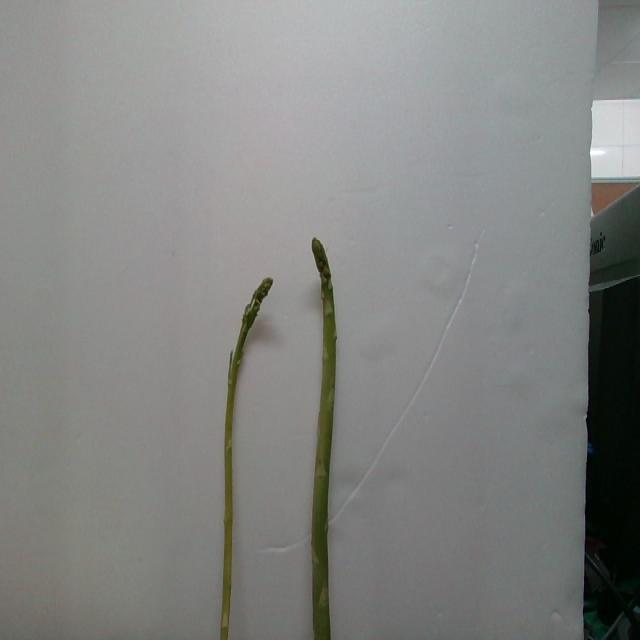aspargus: (217, 279, 271, 640), (313, 240, 340, 640)
